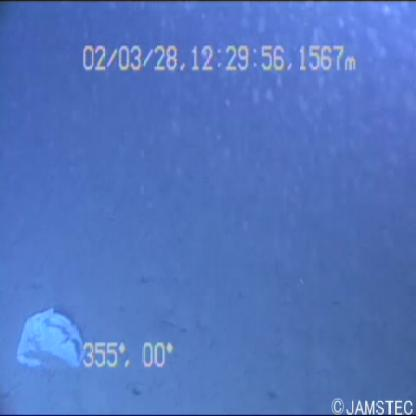Rác: (8, 294, 94, 381)
